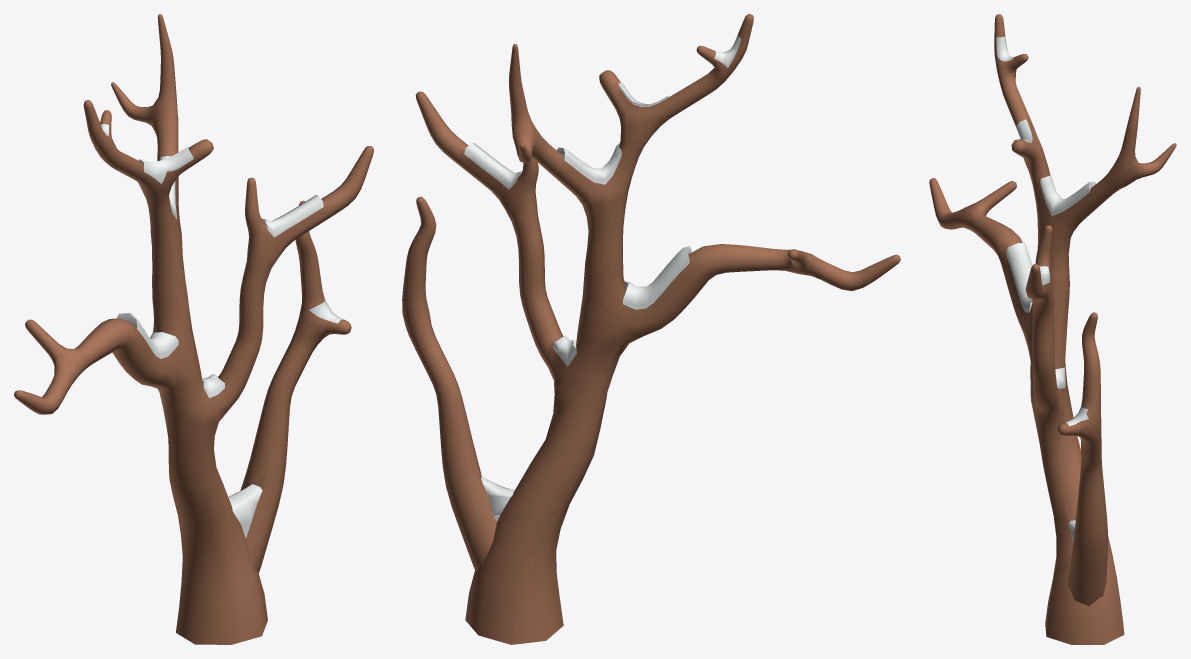
File: Tree nut.fbx
3 views of the same model, side by side, from view 1: azimuth 30°, elevation 25°; view 2: azimuth 150°, elevation 25°; view 3: azimuth 270°, elevation 25° (orthographic). The views are drawn at different scales.
Parts seen in each view (by area): view 1: Tree nut; view 2: Tree nut; view 3: Tree nut.
Boxes of the visible parts, x1,y1,x2,y2 form: Tree nut: (14, 14, 373, 644); Tree nut: (402, 14, 900, 644); Tree nut: (929, 14, 1176, 644).
Size of the model in its own units: 1896 by 2646 by 1100.
